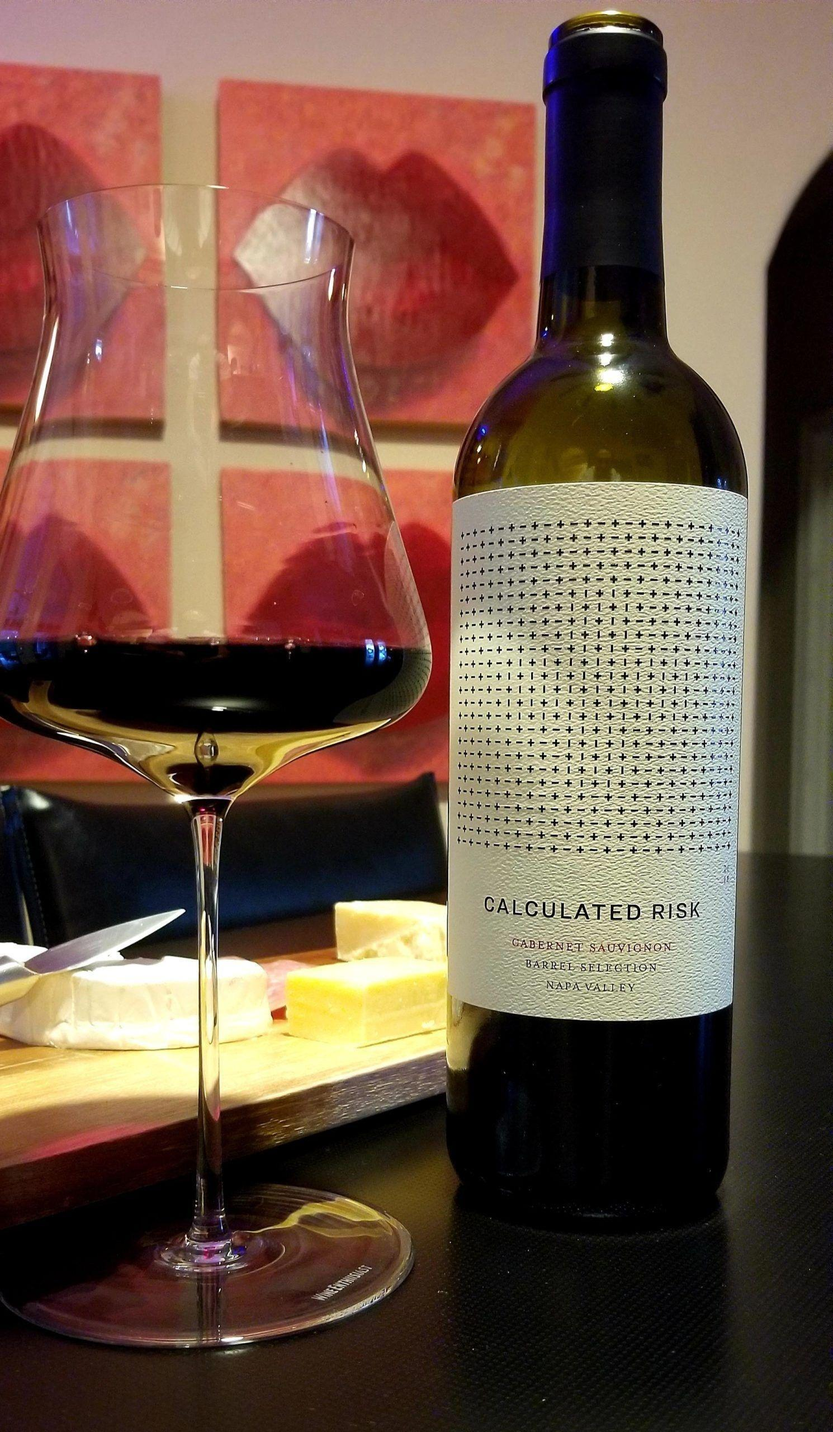bottle-glass: (434, 2, 772, 1233)
glass-wine: (0, 171, 434, 1323)
